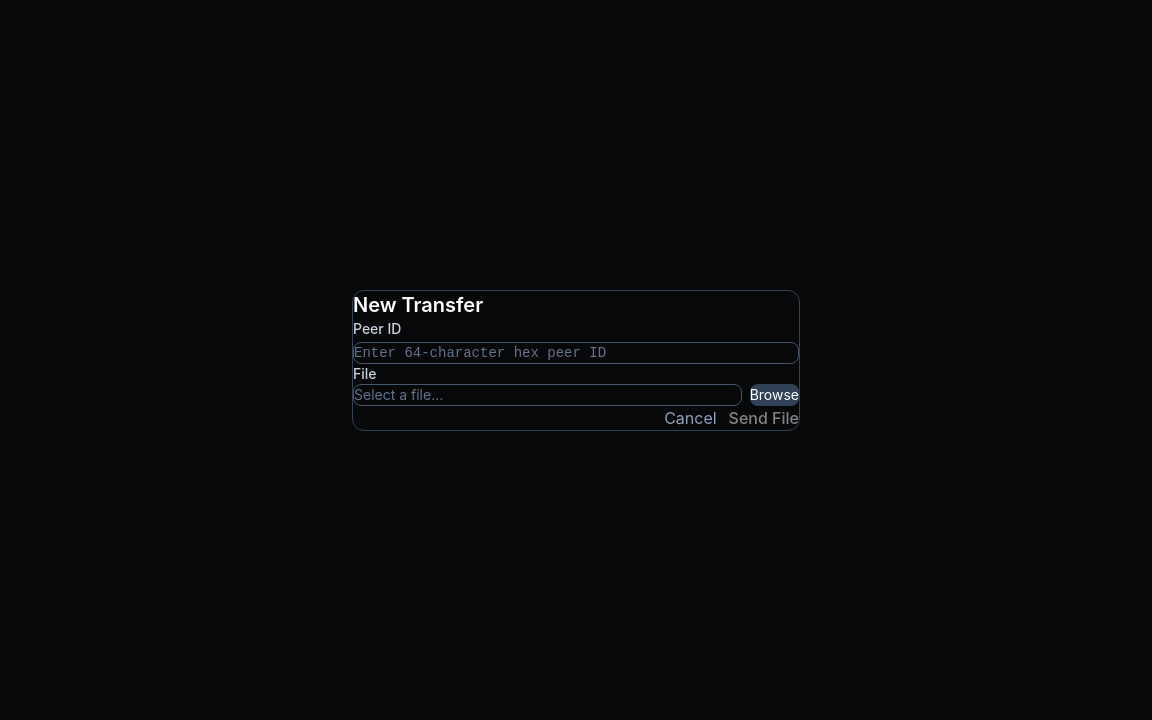
Test: NewTransferDialog › peer ID validation › displays character count
The width and height of the screenshot is (1152, 720).
Type "abc123" into the field with placeholder "Enter 64-character hex peer ID" at (576, 352), box 353,342 -> 799,364
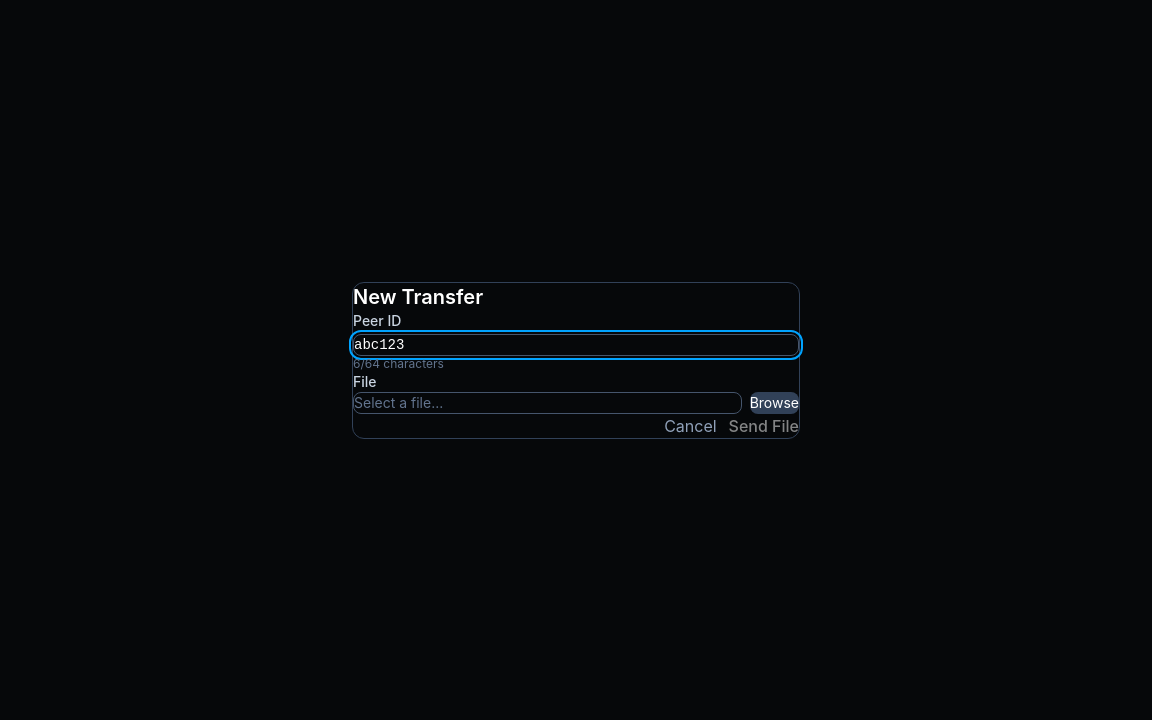
Check: the text "6/64 characters" is shown, box 353,356 -> 444,370
